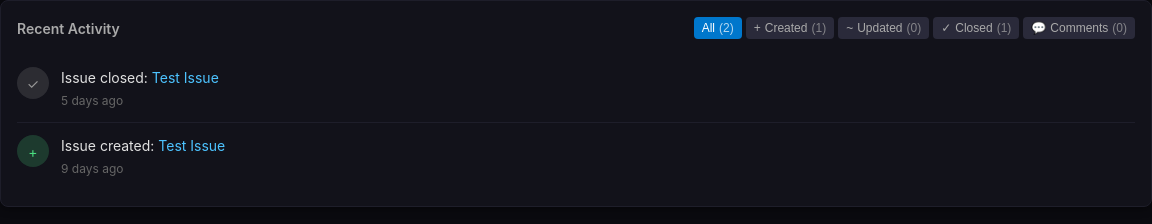
ActivityFeed › filtering › filters to show only closed activities
Click the button "✓Closed(1)". click: (976, 28)
box: 933,17 -> 1019,39
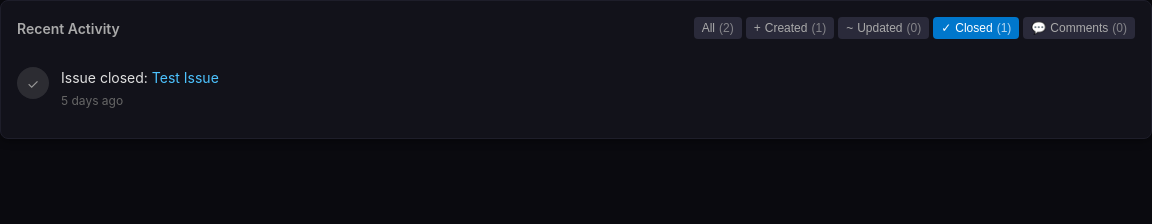
Expected: the text "Issue closed:" is shown, 61,69 -> 219,86
Result: the text "Issue created:" is gone
